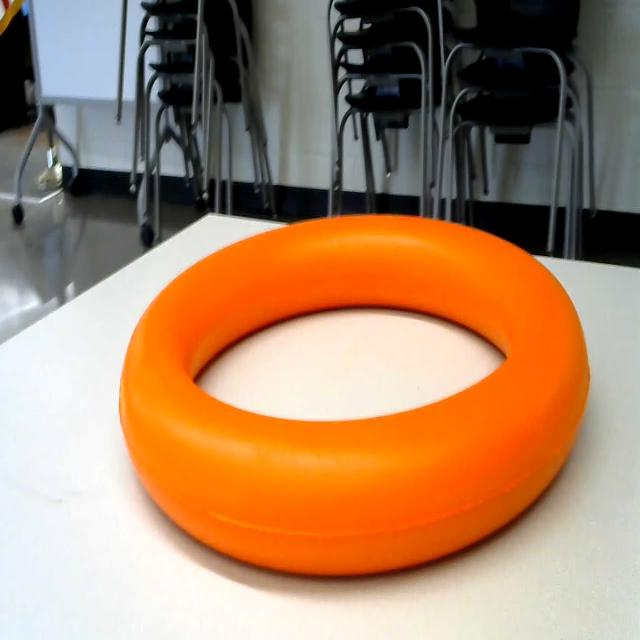note: (115, 168, 594, 592)
